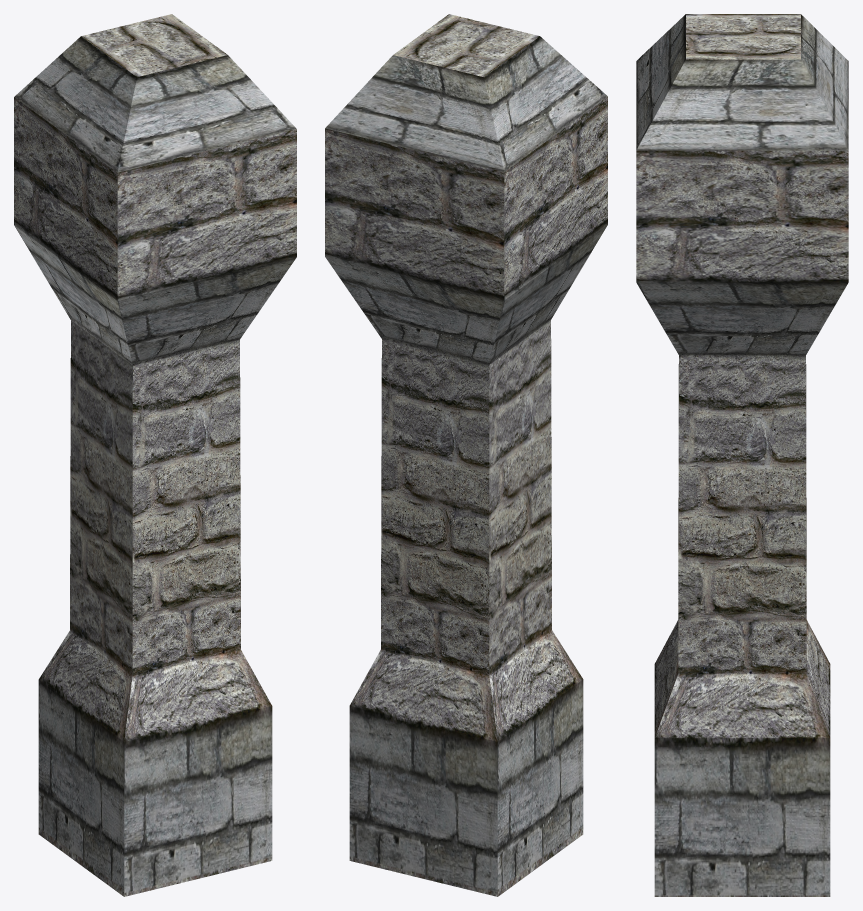
Rendered from column_bulwark.obj.
3 views of the same model, side by side, from view 1: azimuth 30°, elevation 25°; view 2: azimuth 150°, elevation 25°; view 3: azimuth 270°, elevation 25° (orthographic). The views are drawn at different scales.
Visible parts, largest first — view 1: Cube_Cube.002; view 2: Cube_Cube.002; view 3: Cube_Cube.002.
Boxes of the visible parts, bbox=[...] form: Cube_Cube.002: bbox=[14, 14, 296, 896]; Cube_Cube.002: bbox=[325, 14, 607, 896]; Cube_Cube.002: bbox=[636, 14, 848, 896].
Size of the model in its own units: 0.4122 by 1.76 by 0.4122.
1 material, 1 textured.
